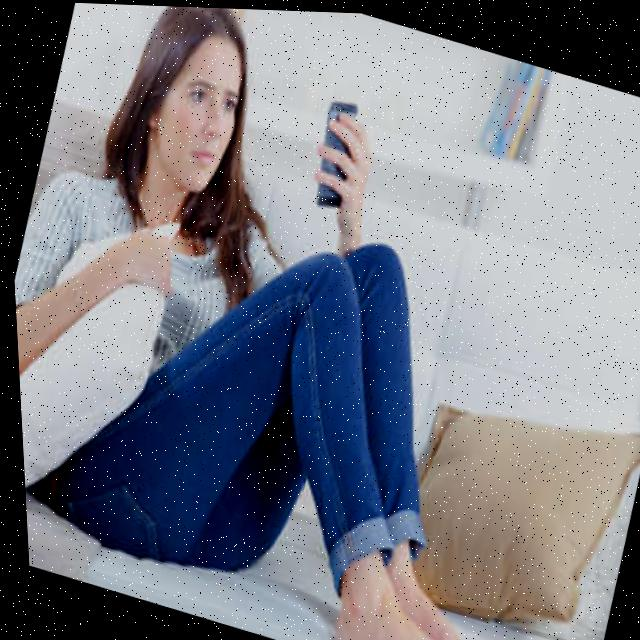smartphone-person: (0, 0, 628, 640)
